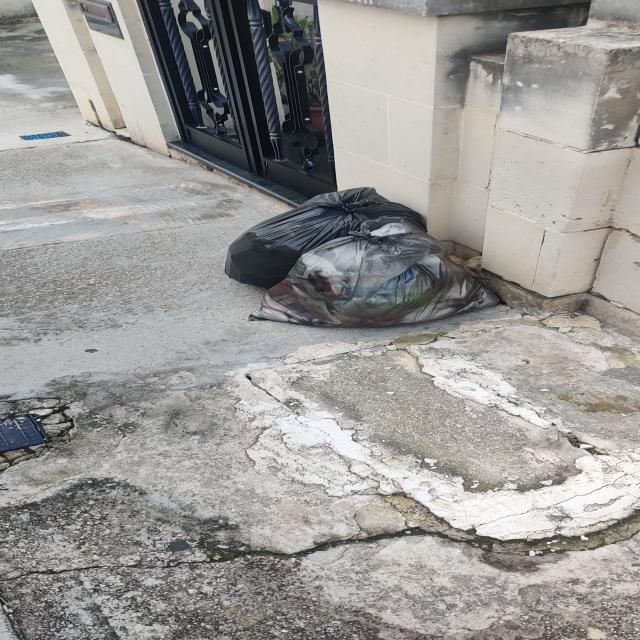Mixed Waste -Black Bags-: (222, 186, 508, 329)
